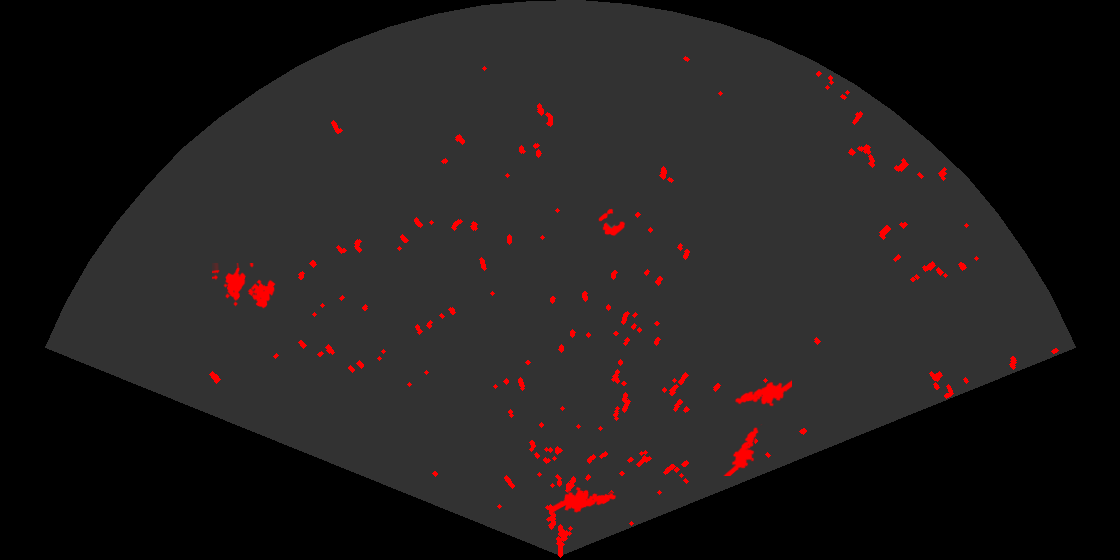ball: (597, 207, 627, 238)
cage: (212, 263, 277, 310)
frogman: (722, 424, 764, 476), (553, 485, 618, 514), (733, 378, 792, 408)
